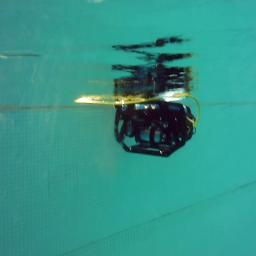Side: (113, 98, 196, 158), (114, 100, 194, 156)
